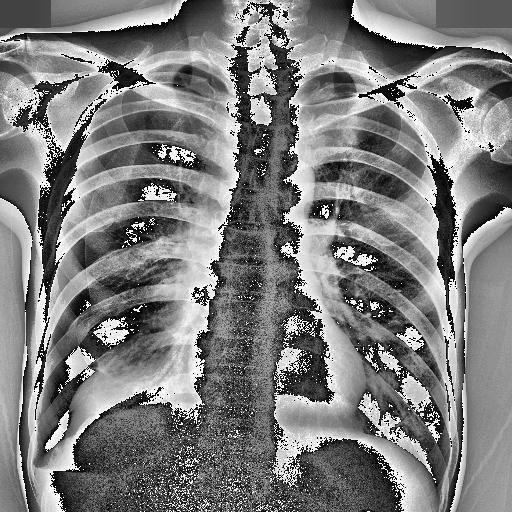10- Pleural effusion: (28, 464, 114, 486)
12- Pneumothorax: (30, 44, 228, 470), (34, 60, 225, 464), (36, 62, 224, 470)
7- Lung Opacity: (65, 356, 199, 440)
